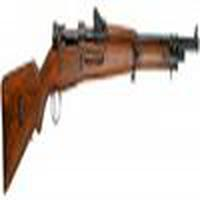gun: (1, 21, 200, 194)
